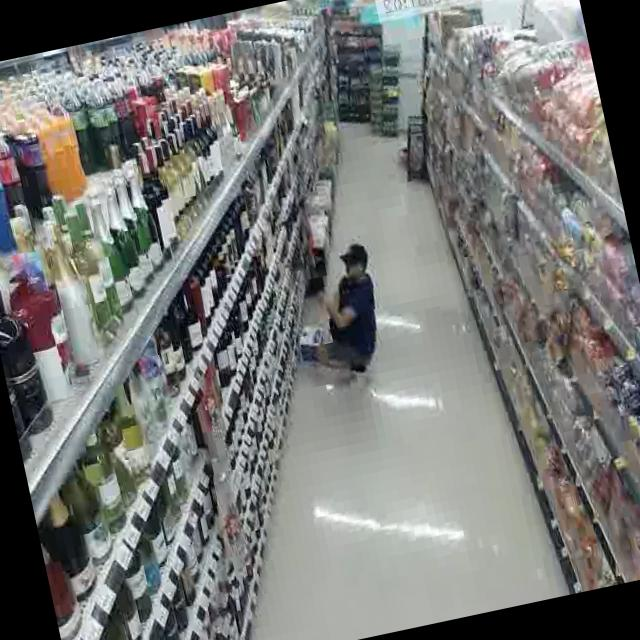shoplifting: (276, 229, 408, 410)
